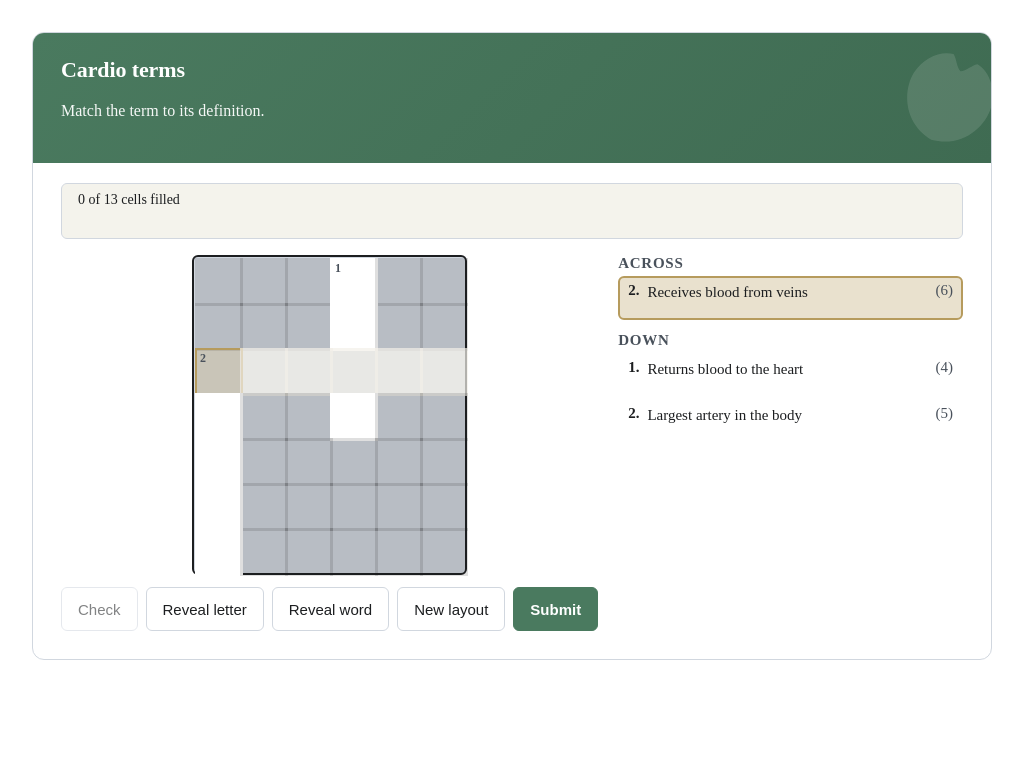
Scenario: Crossword › Reveal letter fills the selected cell and excludes it from the live fill/checked counts as revealed
What coordinates should you click on to do the following:
click the button "2. Largest artery in the body (5)"
I would click on:
 (791, 421)
Its box is [618,399,963,443].
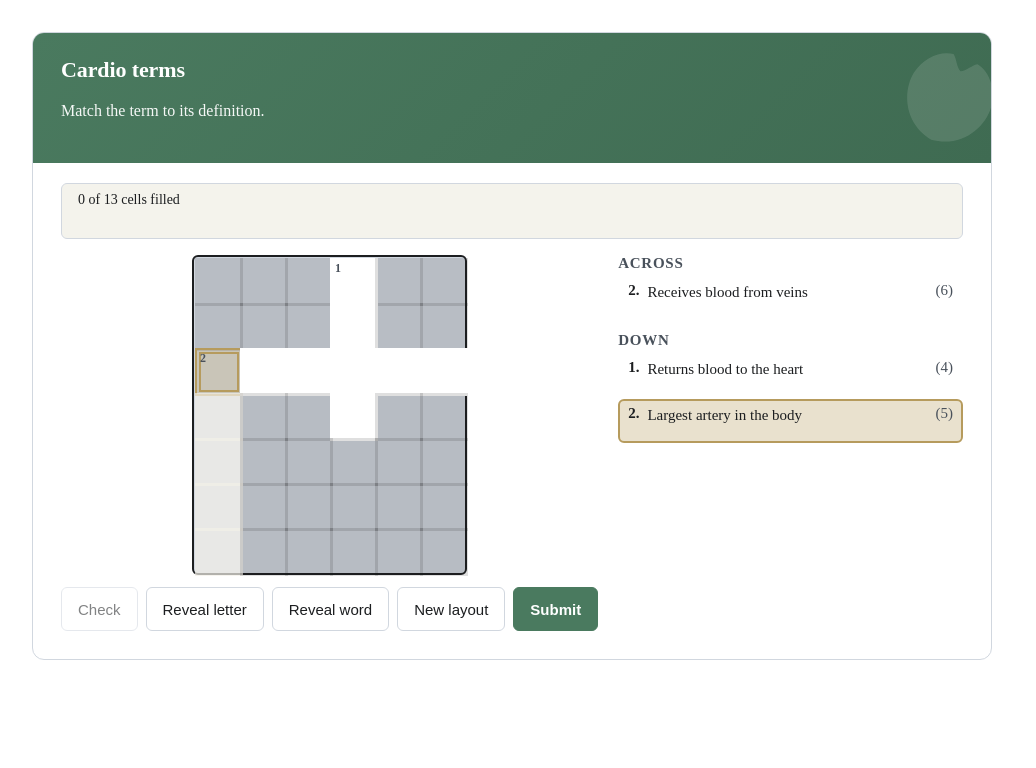
What coordinates should you click on to do the following:
click the button "Reveal letter"
I would click on:
 (205, 609)
Its box is [146,587,264,631].
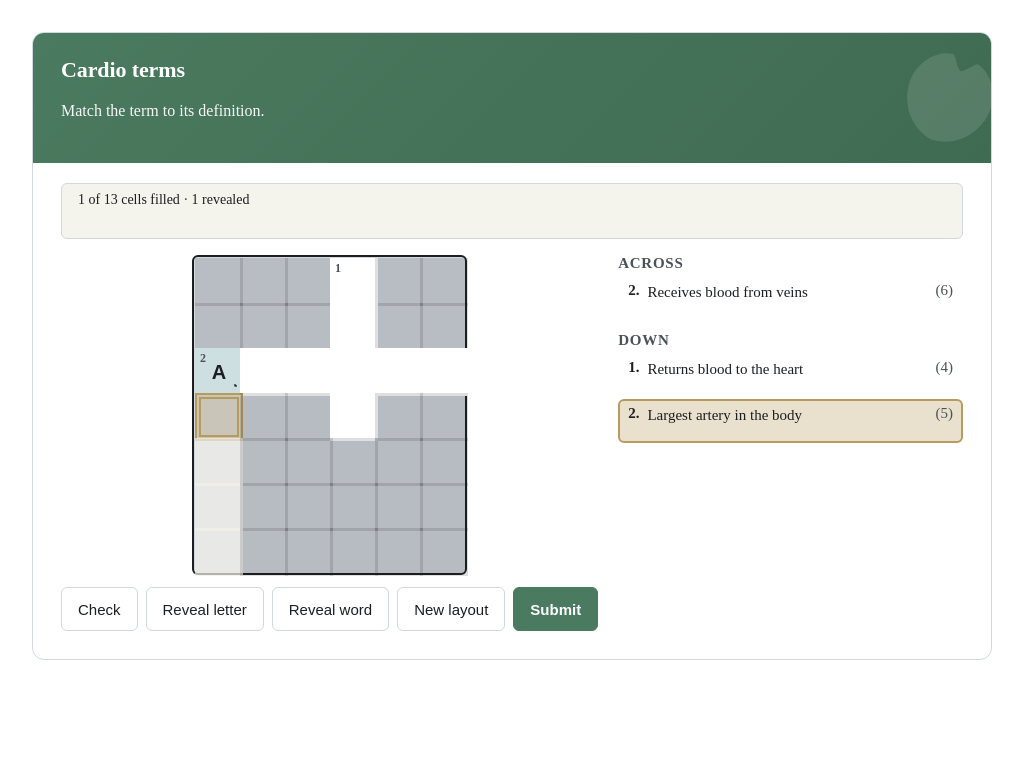
Expected: the number of labels with class "is-revealed" is 1, [195,348,243,396]
Expected: the message with class "kukui-cw__progress" shows "1 revealed", [180,192,250,207]
Expected: the field labelled "2 ◔" holds "A", [197,350,241,394]
